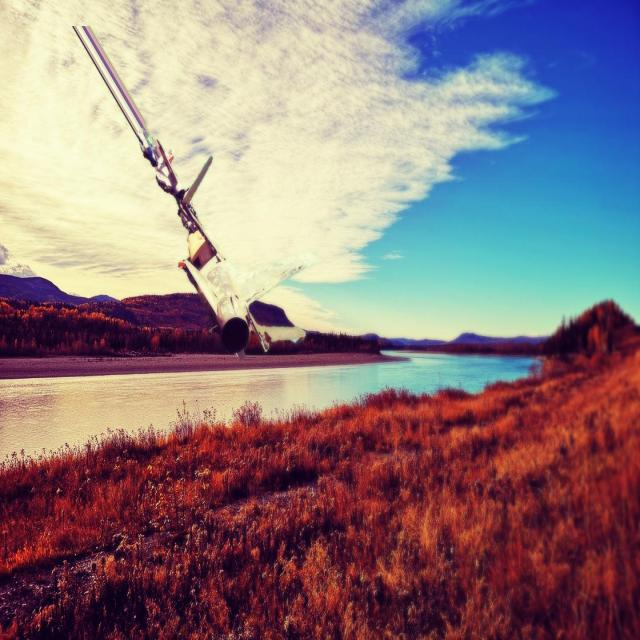airplane: (71, 23, 315, 359)
